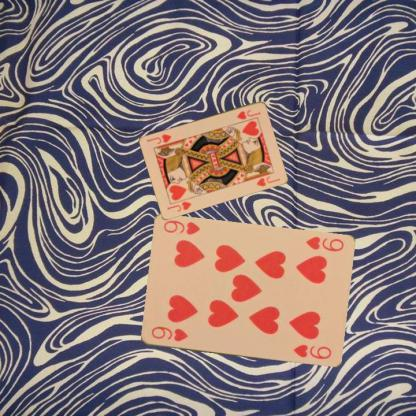9h: (303, 234, 345, 253), (148, 324, 189, 343)
Jh: (234, 107, 262, 121), (165, 198, 192, 212)
